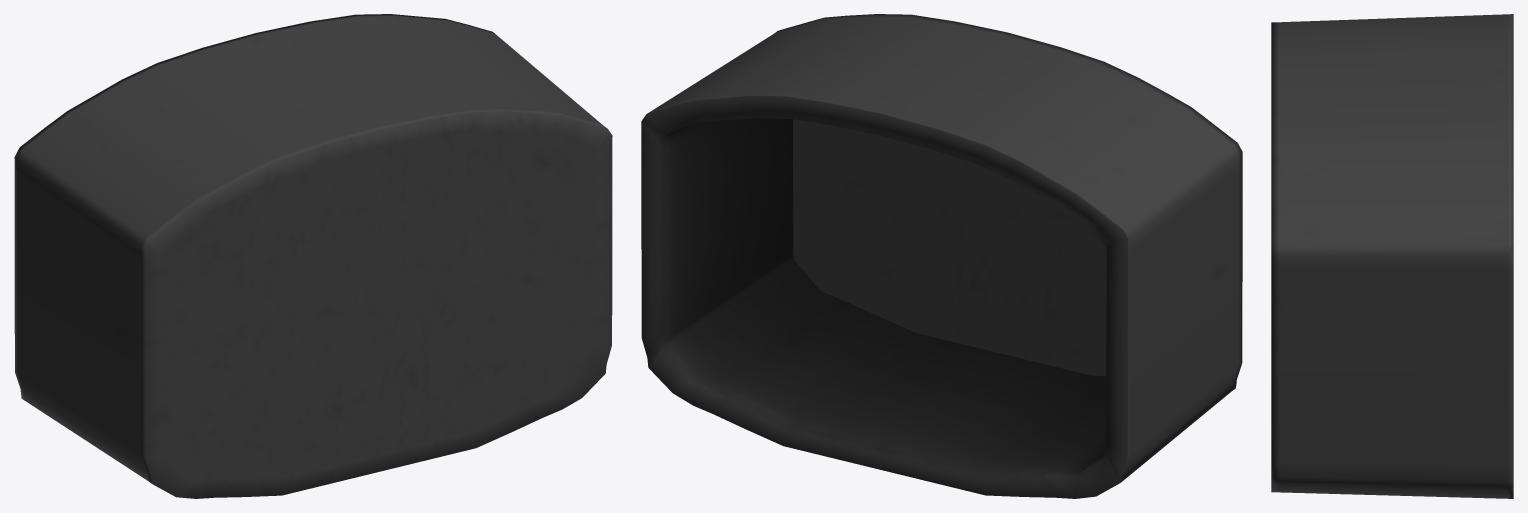
Rendered from Inhaler Cap.obj.
3 renders of one model, left to right at view 1: azimuth 30°, elevation 25°; view 2: azimuth 150°, elevation 25°; view 3: azimuth 270°, elevation 25°, orthographic.
Visible parts, largest first — view 1: cap; view 2: cap; view 3: cap.
Boxes of the visible parts, bbox=[...] form: cap: bbox=[14, 14, 612, 498]; cap: bbox=[641, 14, 1242, 498]; cap: bbox=[1271, 14, 1513, 498].
Bounding box in the file's own units: 0.0544 × 0.038 × 0.0239.
